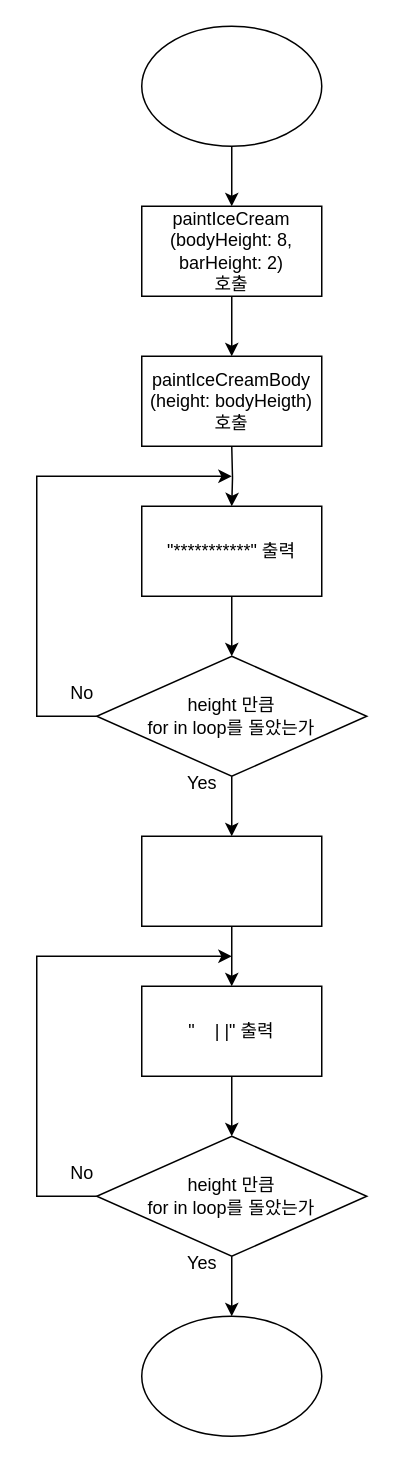
The diagram is 393 pixels wide and 1463 high, and some of its shapes have lost their labels. The shapes that lost their labels are listed below. From the top down, each one's box as (x1, y1, x2, y2) in pixels, then its label:
(140, 25, 322, 146): 시작
(140, 835, 322, 926): paintCreamBar (height: barHeight) 호출
(140, 1315, 322, 1436): 종료
